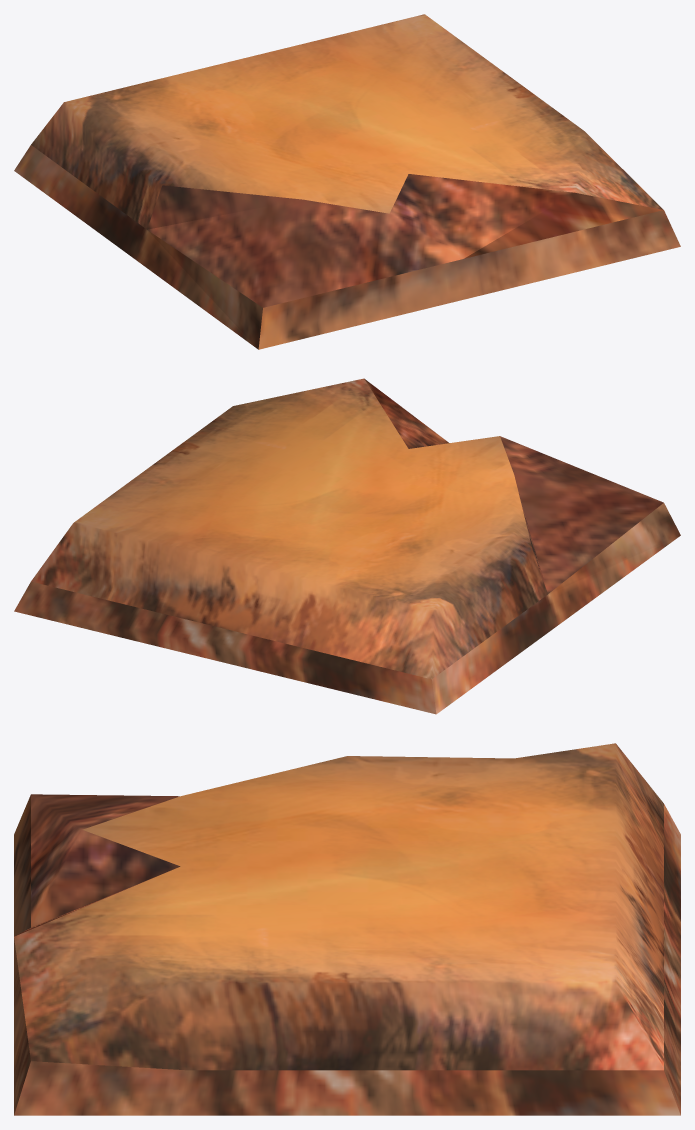
The model's file is Yellow_MD_Addsquare.fbx.
3 renders of one model, top to bottom at view 1: azimuth 30°, elevation 25°; view 2: azimuth 150°, elevation 25°; view 3: azimuth 270°, elevation 25°, orthographic. The views are drawn at different scales.
Parts seen in each view (by area): view 1: Yellow_MD_AddSquare; view 2: Yellow_MD_AddSquare; view 3: Yellow_MD_AddSquare.
Part boxes in pixels (x1,y1,x2,y2): Yellow_MD_AddSquare: (14, 14, 680, 349); Yellow_MD_AddSquare: (14, 378, 680, 714); Yellow_MD_AddSquare: (14, 743, 680, 1115).
Bounding box in the file's own units: 0.718 × 0.1295 × 0.72.
